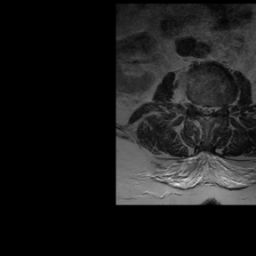CCS_normal: (203, 98, 209, 124)
LFS_stenosis: (216, 97, 223, 116)
LLS_normal: (209, 98, 216, 120)
RFS_stenosis: (192, 96, 197, 112)
RLS_normal: (197, 97, 203, 119)
